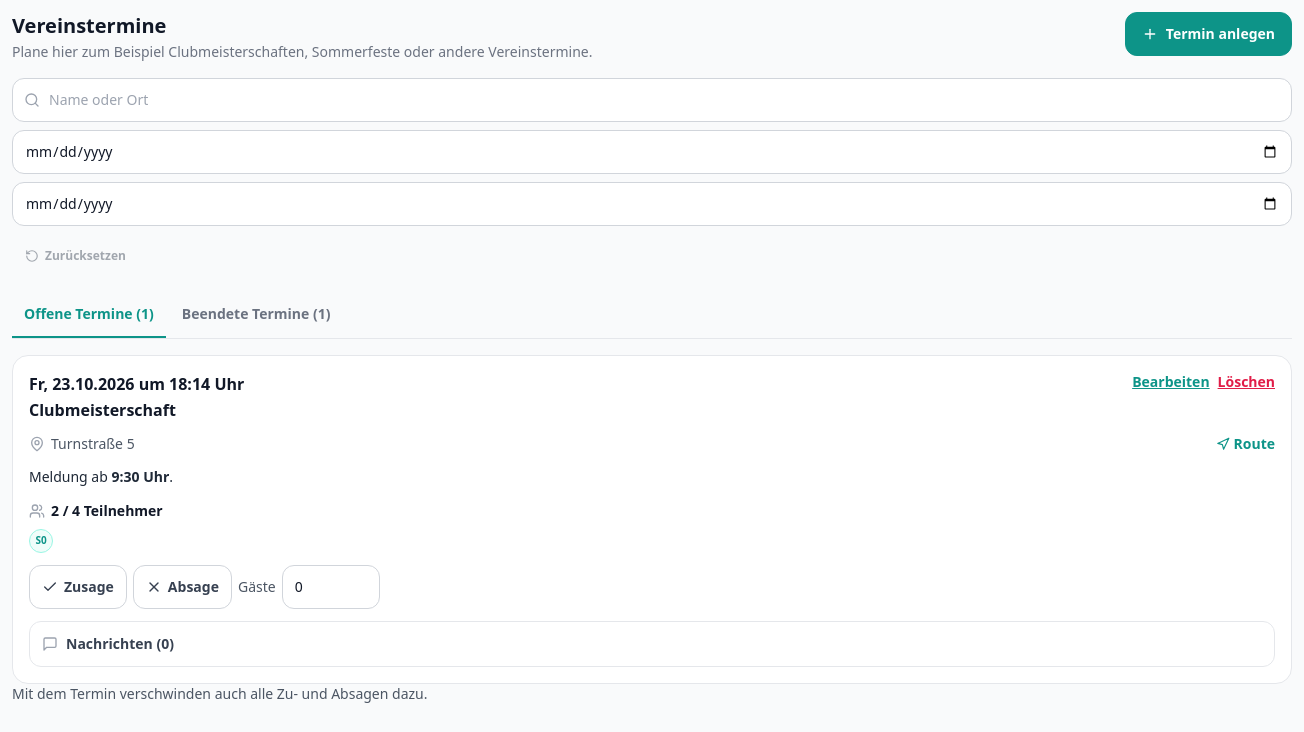
Test: EventsPage › sagt es, wenn der Termin voll ist
This screenshot has width=1304, height=732.
Expected: the text "Clubmeisterschaft" is shown, [29, 399, 176, 421]
Click the button "Zusage" at (78, 587), box [29, 565, 127, 609]
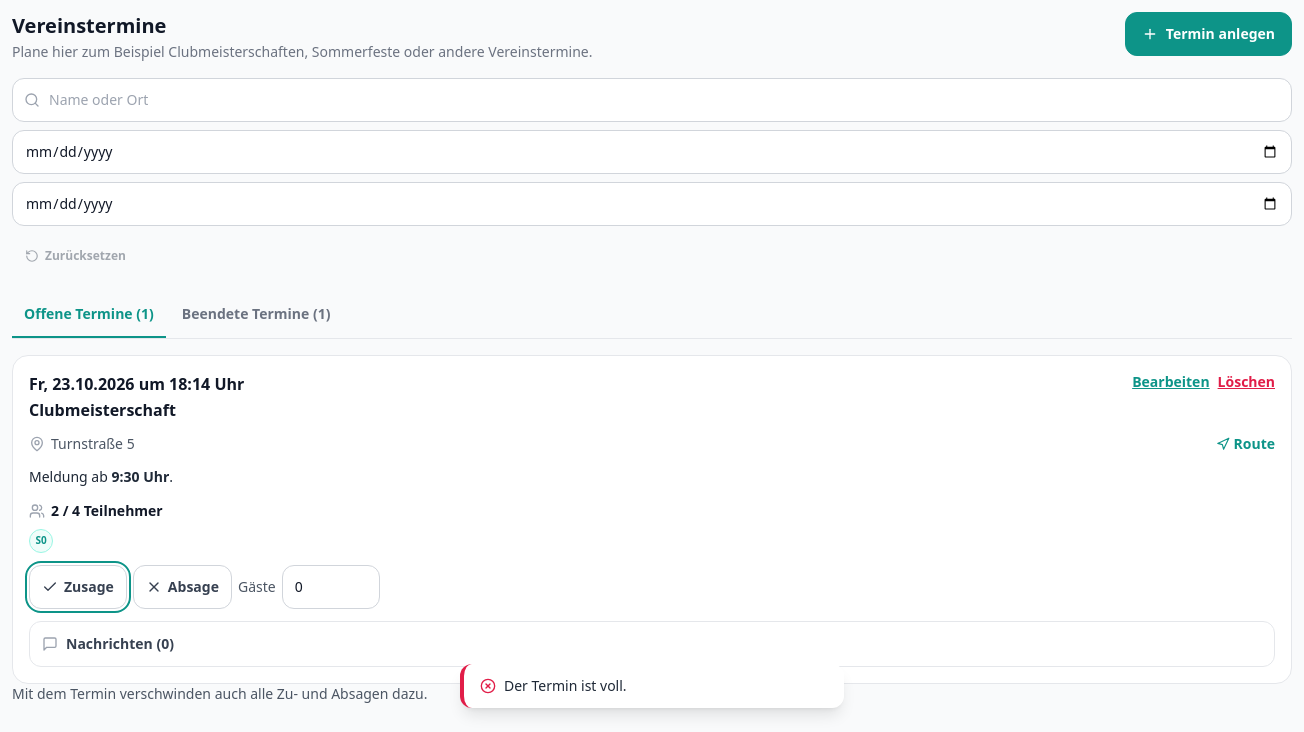
Result: the text "Der Termin ist voll." is shown at [504, 676, 627, 696]
